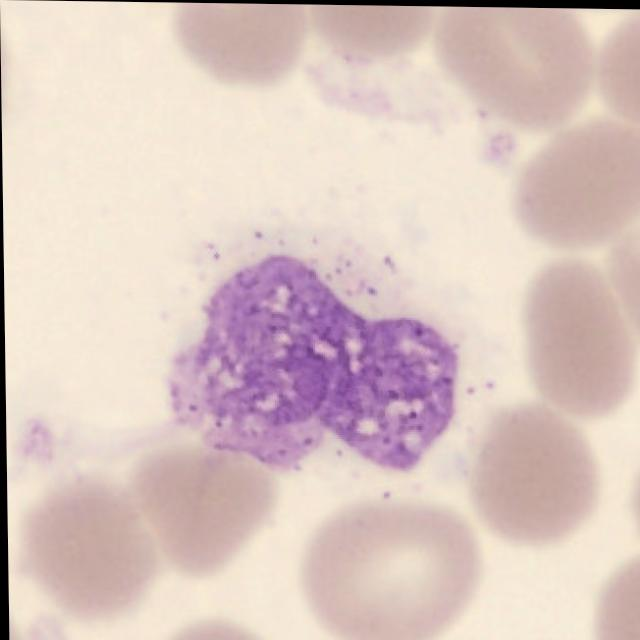Restos celulares: (167, 254, 462, 475)
